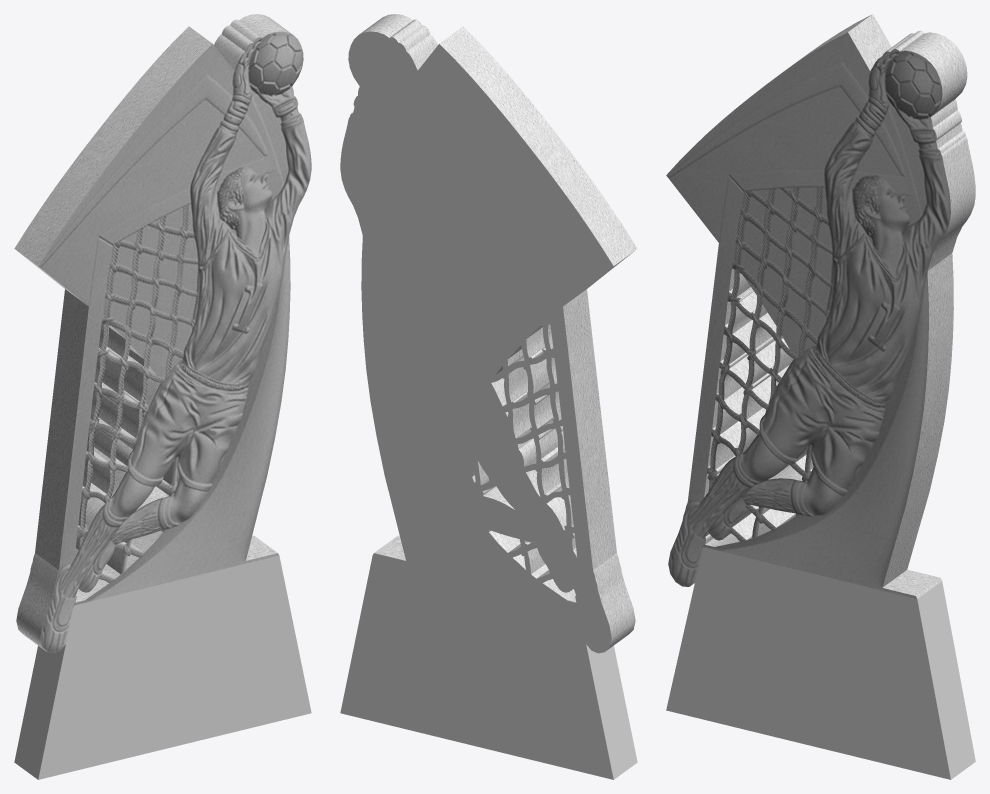
File: cnff36c26227_tkf.glb
The picture shows the model from 3 angles, left to right: view 1: azimuth 30°, elevation 25°; view 2: azimuth 150°, elevation 25°; view 3: azimuth 330°, elevation 25°; orthographic projection. The views are drawn at different scales.
Parts seen in each view (by area): view 1: Pam-d02-079_2_notexture, Pam-d02-079; view 2: Pam-d02-079, Pam-d02-079_2_notexture; view 3: Pam-d02-079_2_notexture, Pam-d02-079.
Part boxes in pixels (box(x1,y1,x2,y2)): Pam-d02-079_2_notexture: box(14, 14, 311, 653); Pam-d02-079: box(14, 555, 311, 779); Pam-d02-079: box(340, 31, 637, 779); Pam-d02-079_2_notexture: box(351, 14, 637, 651); Pam-d02-079_2_notexture: box(666, 14, 975, 598); Pam-d02-079: box(666, 547, 975, 779).
Bounding box in the file's own units: 0.33 × 0.8 × 0.05.
1 material, 1 textured.
